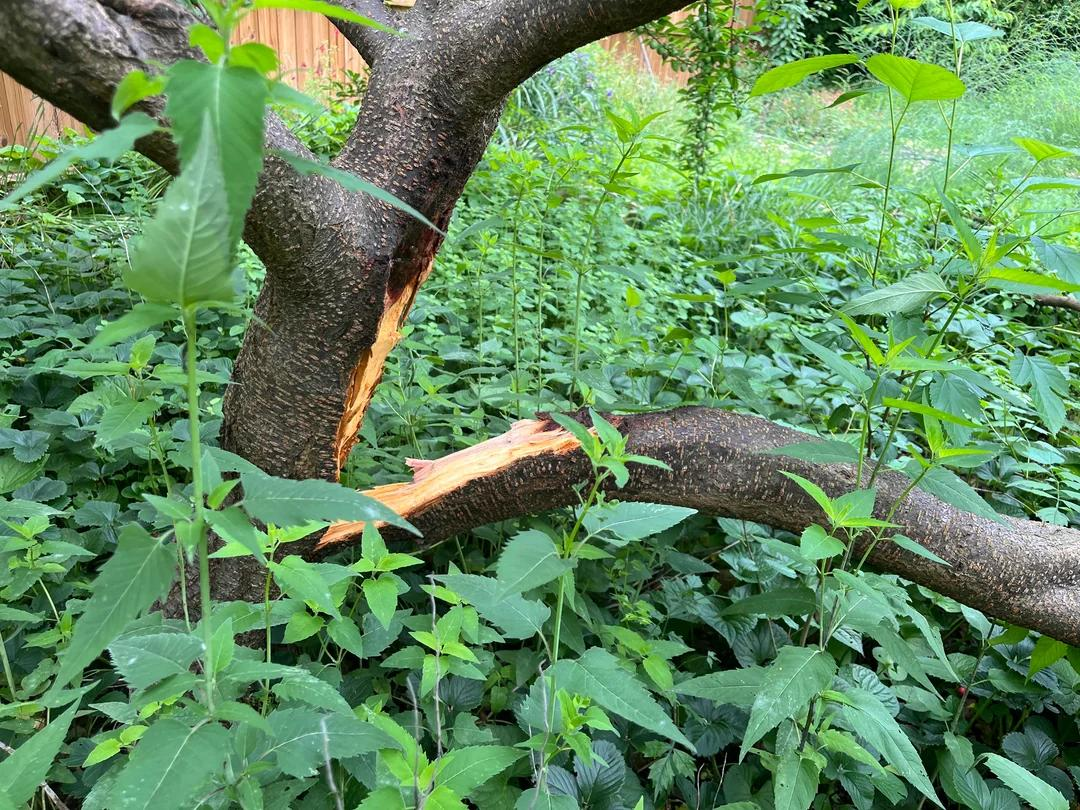mechanical damage: (364, 420, 579, 527), (335, 257, 431, 475), (316, 524, 362, 549)
